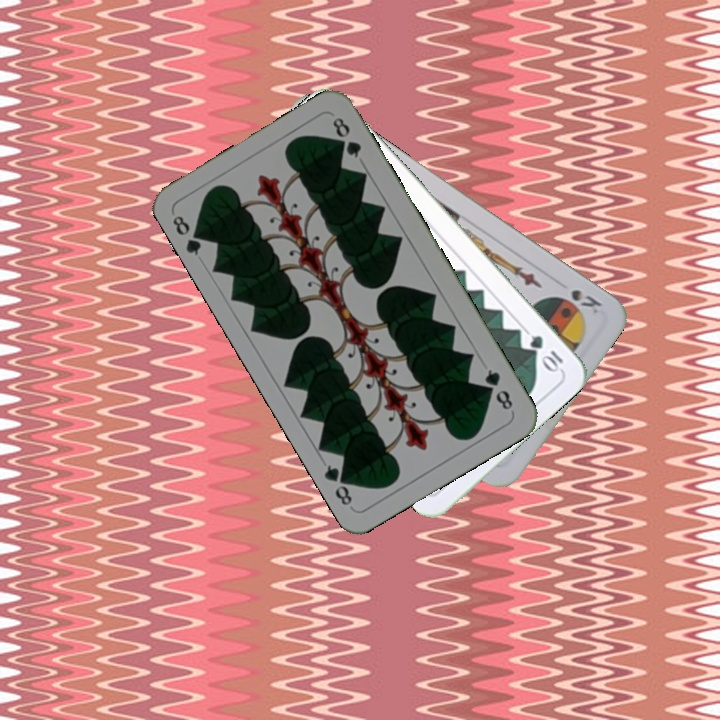G10: (525, 331, 567, 375)
G8: (168, 211, 209, 258), (480, 365, 516, 413)
SK: (567, 285, 605, 317)
